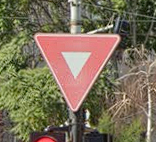cedeaza: (31, 29, 125, 123)
